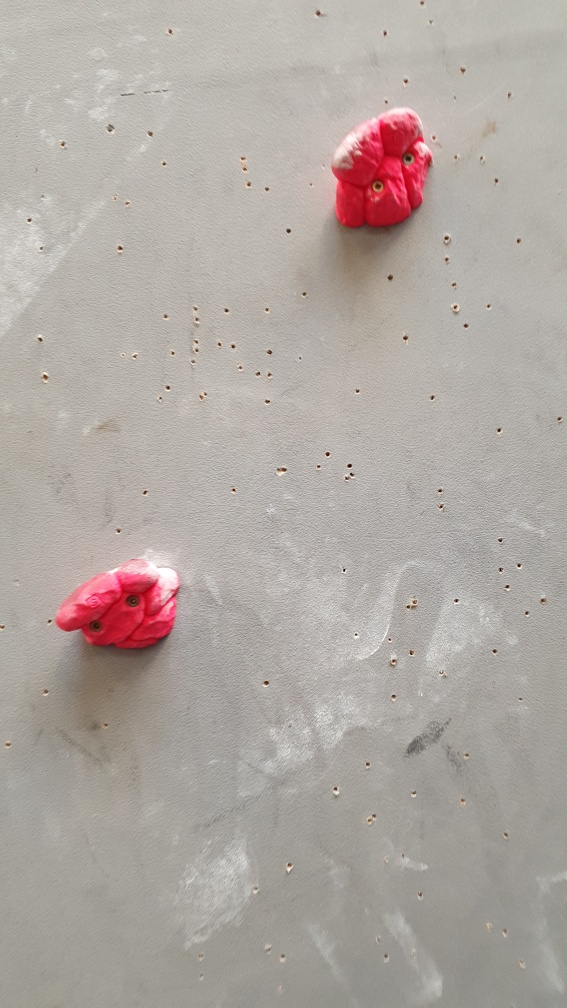Jug: (329, 104, 439, 234), (52, 556, 182, 653)
